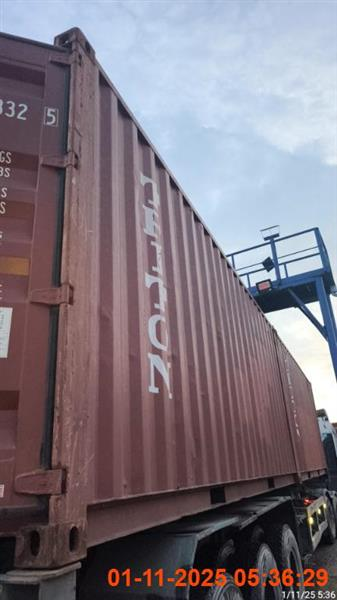dent: (1, 27, 335, 599)
